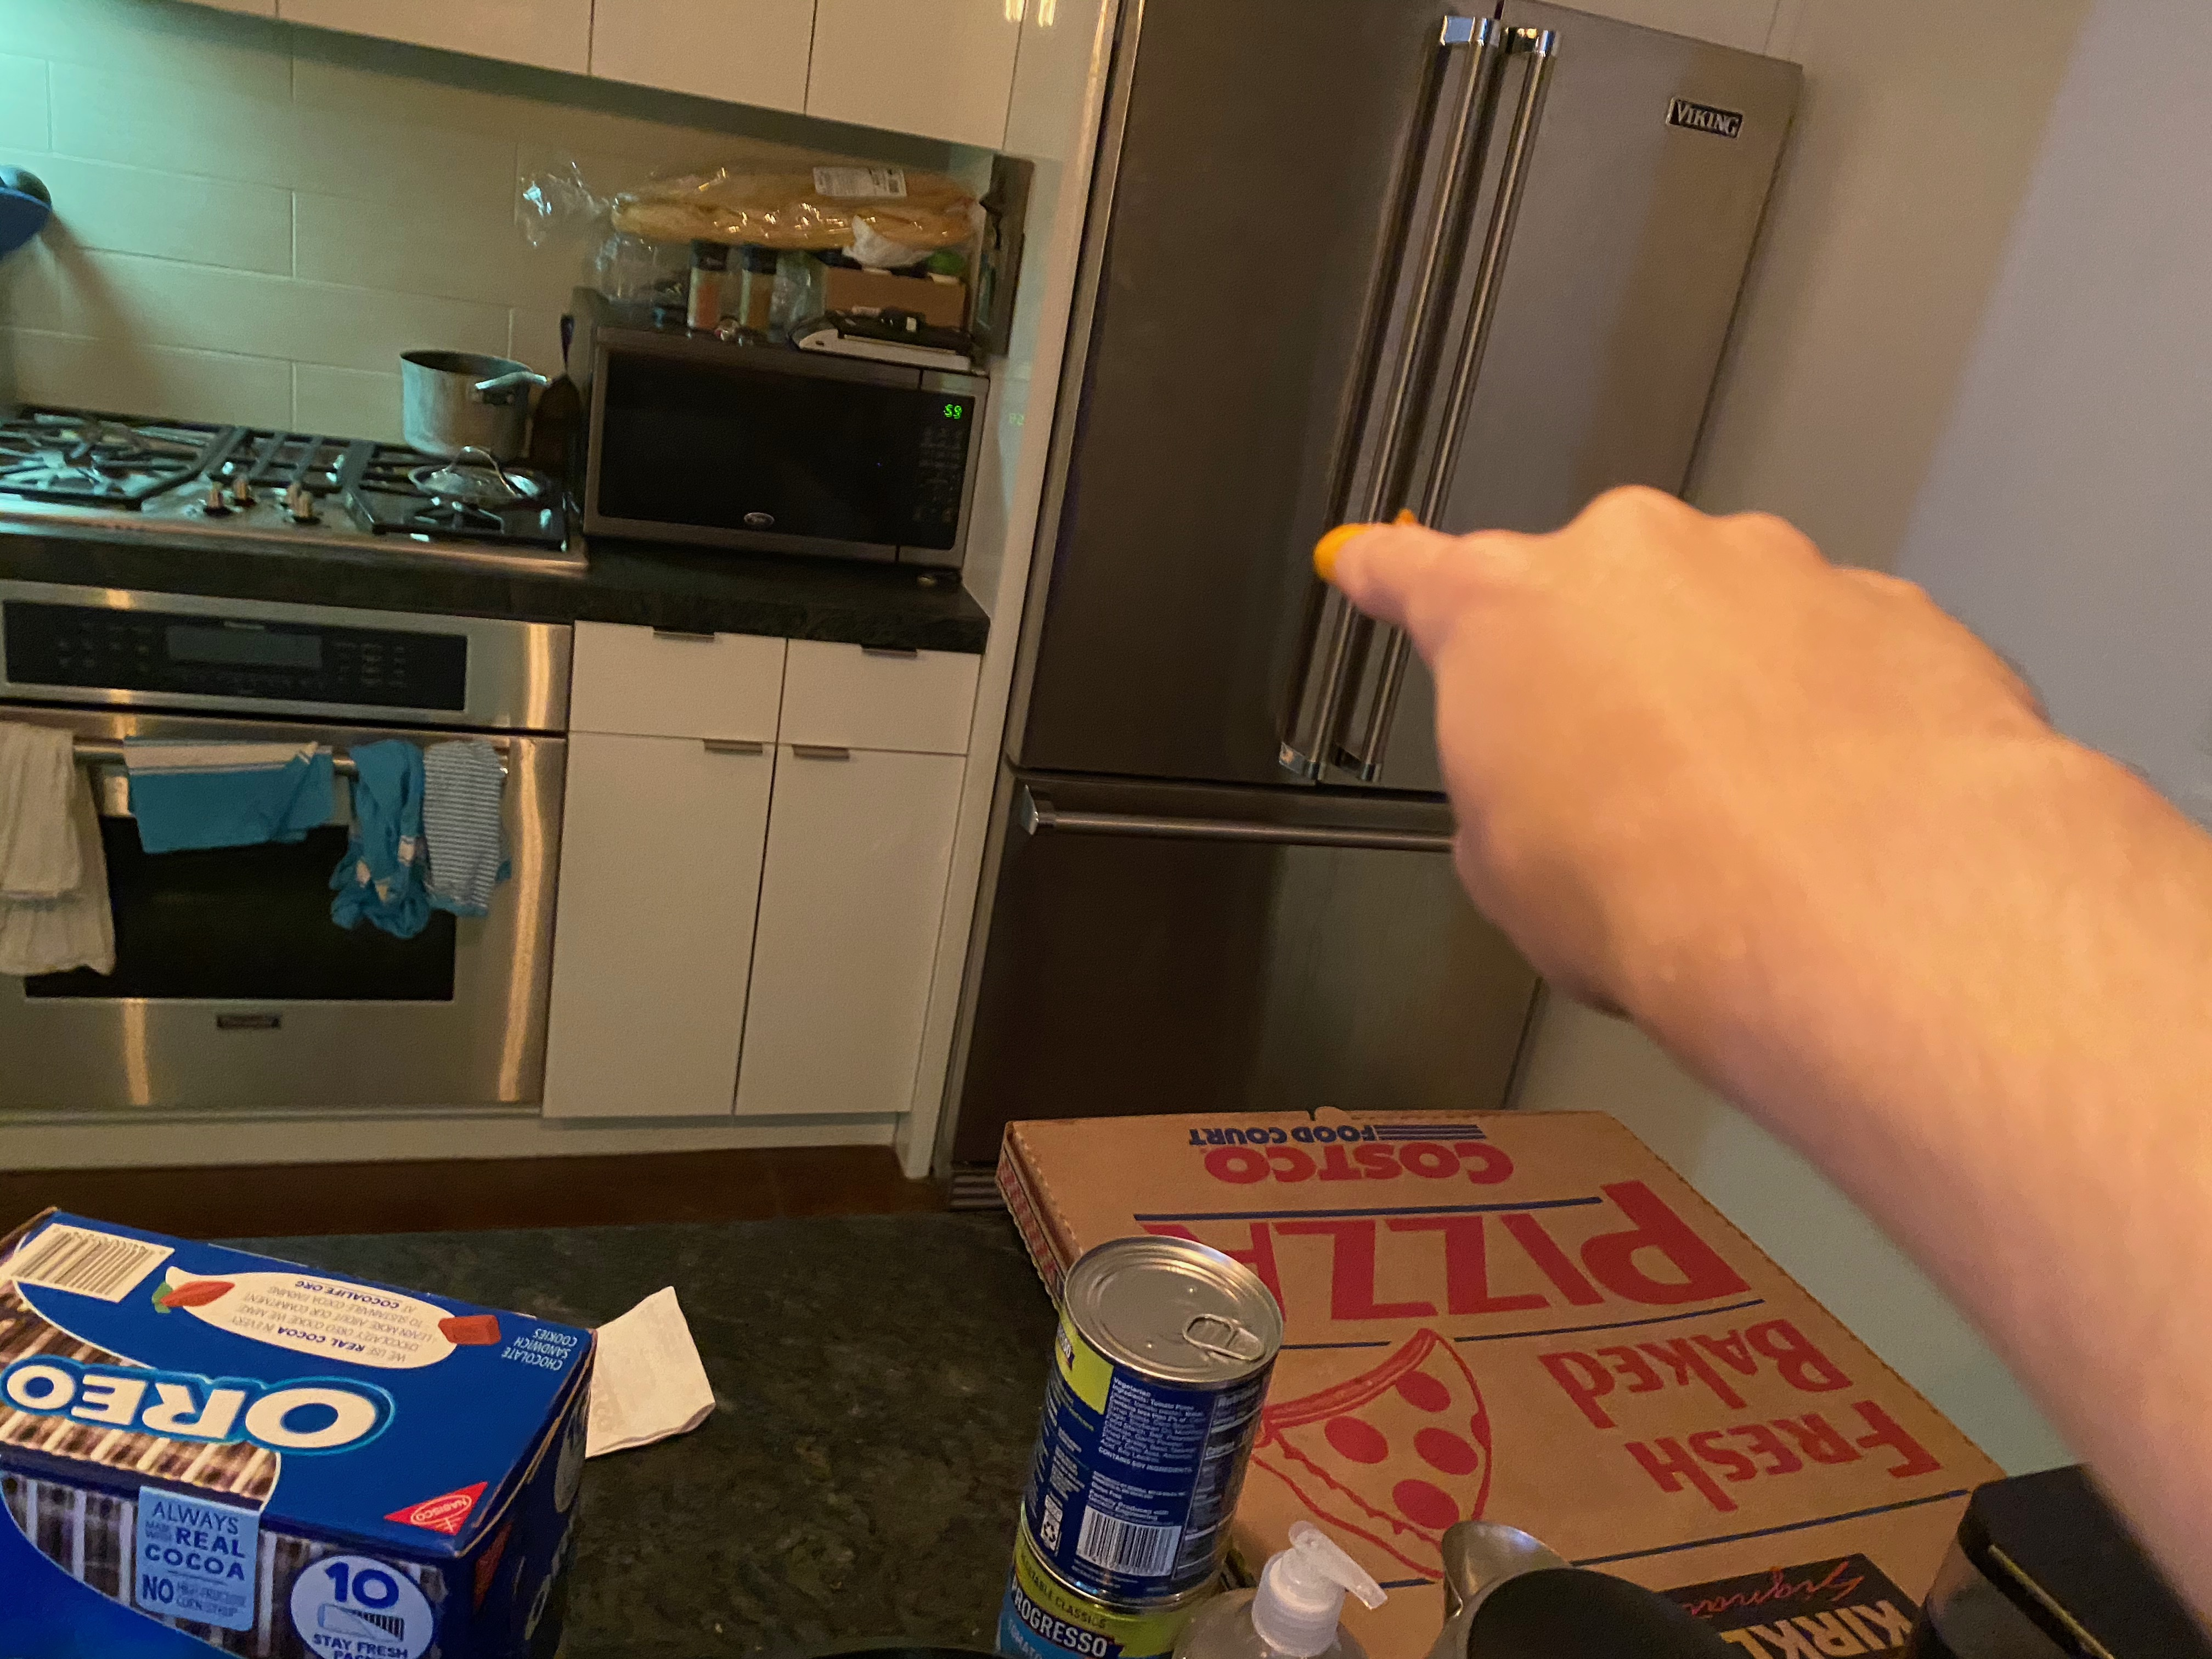fingertip: (1291, 491, 1399, 617)
